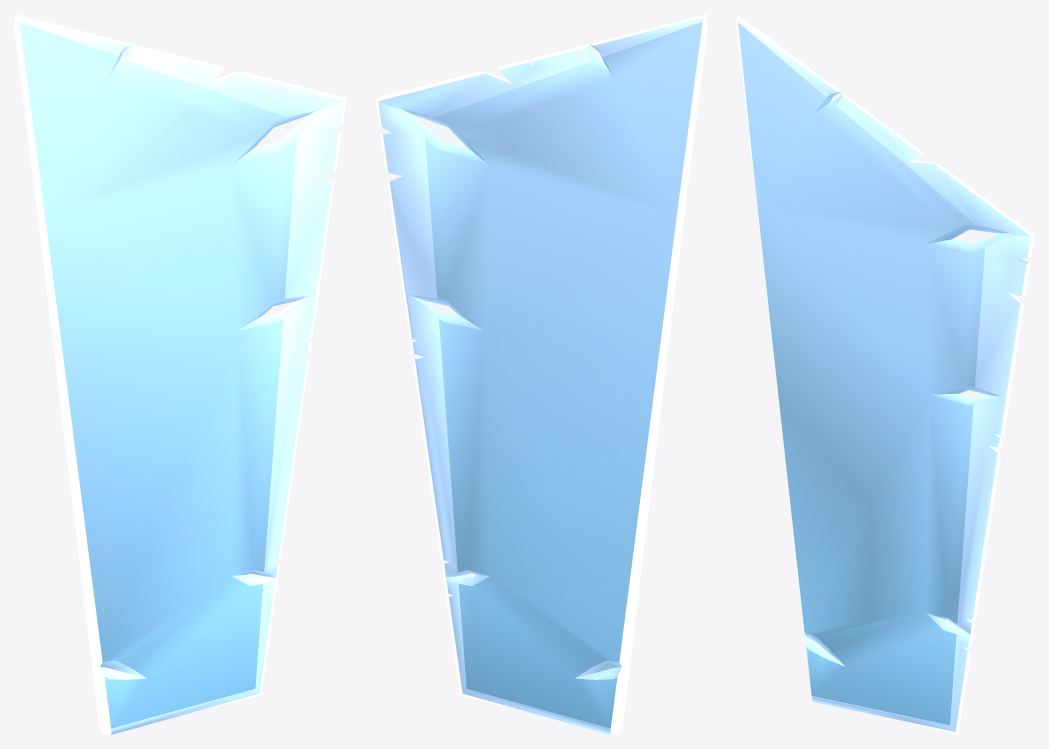
Rendered from steel_blade_scratched_045.glb.
3 views of the same model, side by side, from view 1: azimuth 30°, elevation 25°; view 2: azimuth 150°, elevation 25°; view 3: azimuth 330°, elevation 25° (orthographic). The views are drawn at different scales.
Parts seen in each view (by area): view 1: steel_blade_scratched.045; view 2: steel_blade_scratched.045; view 3: steel_blade_scratched.045.
Boxes of the visible parts, x1,y1,x2,y2 form: steel_blade_scratched.045: [14, 14, 346, 734]; steel_blade_scratched.045: [375, 14, 707, 734]; steel_blade_scratched.045: [736, 14, 1034, 734].
Bounding box in the file's own units: 5.55 × 11.85 × 0.374.
1 material, 1 textured.
